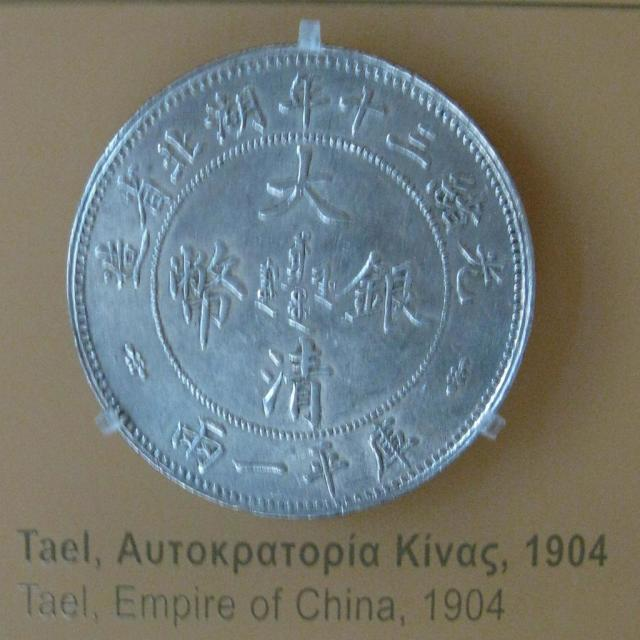Coin: (66, 34, 535, 516)
